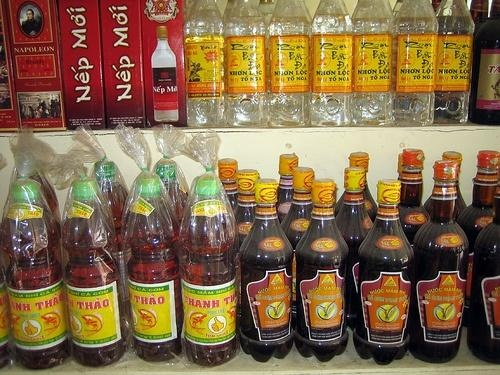bottle: (4, 180, 72, 372), (62, 181, 129, 368), (411, 163, 471, 365), (123, 170, 184, 361), (183, 174, 241, 367), (352, 180, 412, 364), (236, 178, 295, 365), (295, 177, 350, 365), (468, 181, 500, 365), (268, 1, 309, 128), (353, 1, 394, 127), (185, 2, 225, 128), (396, 2, 436, 128), (312, 2, 352, 126), (227, 2, 266, 127), (438, 1, 472, 126), (93, 160, 132, 266), (456, 147, 500, 225), (473, 1, 500, 125), (397, 148, 433, 238), (337, 149, 379, 225), (151, 25, 181, 124), (340, 167, 374, 241), (281, 167, 316, 237), (156, 160, 192, 223), (236, 169, 262, 241), (278, 153, 298, 201), (217, 159, 238, 195)
